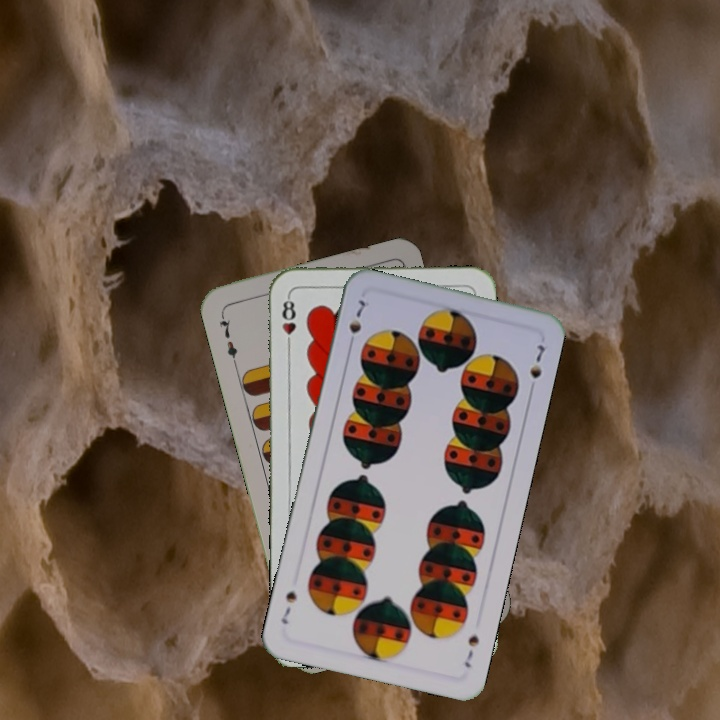E7: (215, 309, 241, 368)
H8: (278, 292, 298, 351)
S7: (344, 295, 370, 351), (460, 631, 482, 670)
